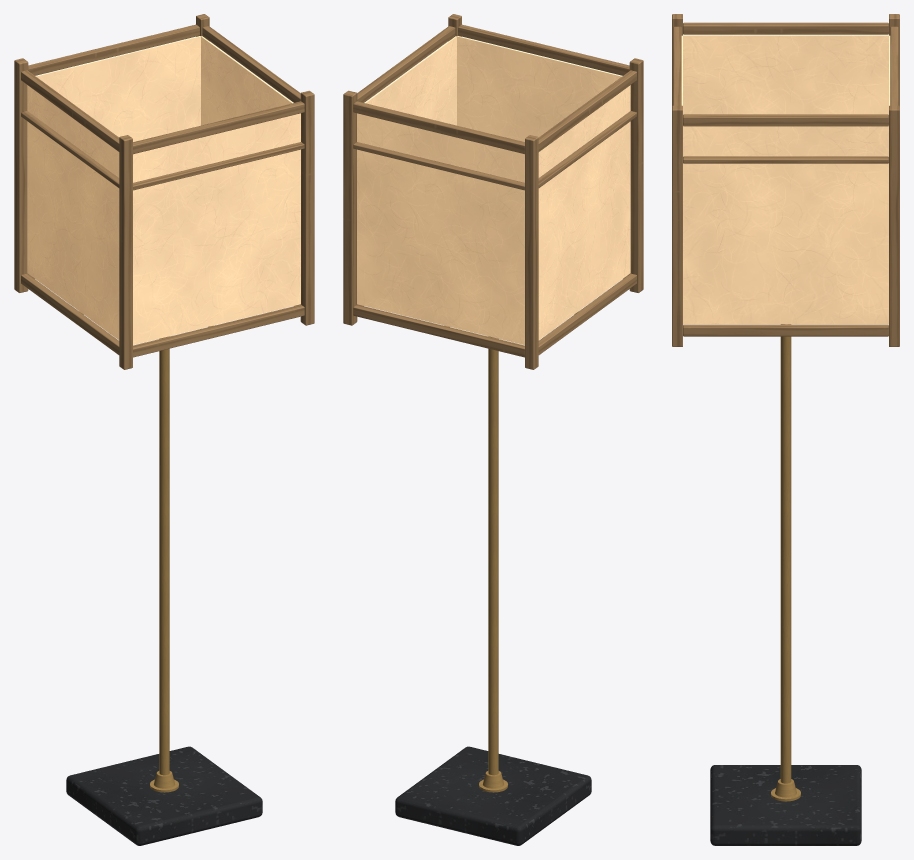
Rendered from floor_lamp.glb.
3 views of the same model, side by side, from view 1: azimuth 30°, elevation 25°; view 2: azimuth 150°, elevation 25°; view 3: azimuth 270°, elevation 25° (orthographic). The views are drawn at different scales.
Parts seen in each view (by area): view 1: part_shade_LOD0, part_shade_frame_LOD0, part_base_LOD0, part_stem_LOD0; view 2: part_shade_LOD0, part_shade_frame_LOD0, part_base_LOD0, part_stem_LOD0; view 3: part_shade_LOD0, part_shade_frame_LOD0, part_base_LOD0, part_stem_LOD0.
Boxes of the visible parts, box(x1,y1,x2,y2) form: part_shade_LOD0: box(27, 36, 300, 344); part_shade_frame_LOD0: box(14, 14, 314, 369); part_base_LOD0: box(66, 746, 262, 845); part_stem_LOD0: box(79, 311, 211, 788); part_shade_LOD0: box(357, 36, 630, 344); part_shade_frame_LOD0: box(343, 14, 643, 369); part_base_LOD0: box(395, 746, 591, 845); part_stem_LOD0: box(446, 311, 578, 788); part_shade_LOD0: box(681, 35, 890, 324); part_shade_frame_LOD0: box(672, 14, 899, 346); part_base_LOD0: box(710, 765, 861, 845); part_stem_LOD0: box(775, 324, 796, 797).
Size of what is drawn, in the model's own units: 0.452 by 1.65 by 0.452.
11 materials, 7 textured.
